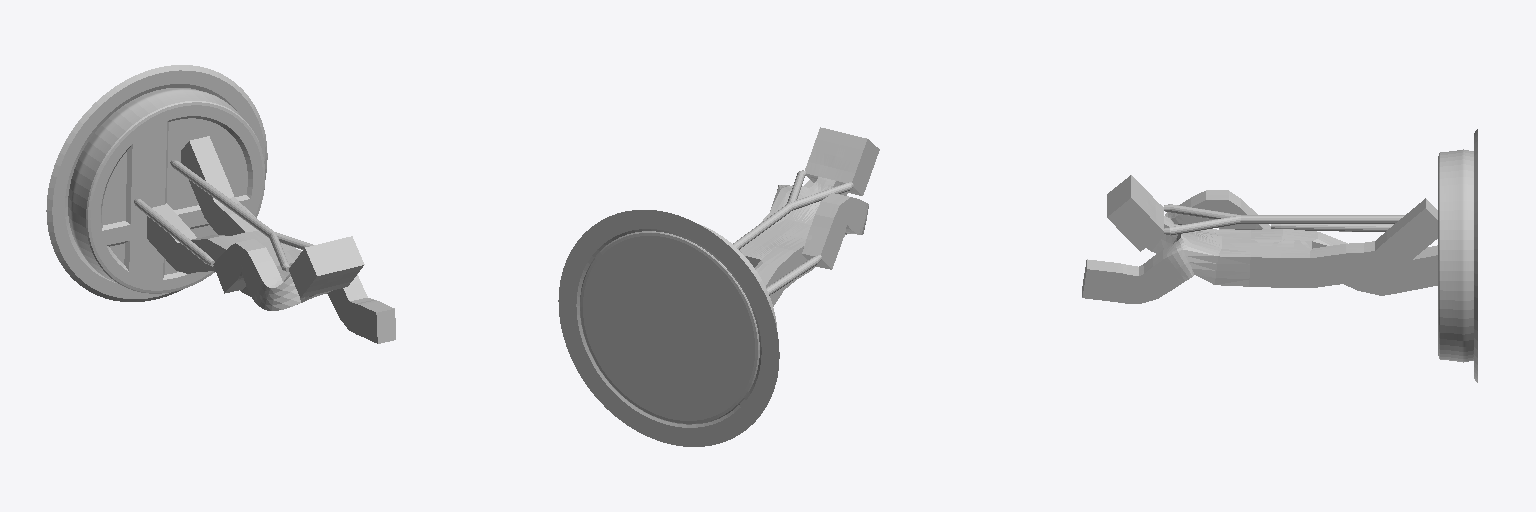
The model's file is Test 3 Amiibo v3.obj.
3 renders of one model, left to right at view 1: azimuth 30°, elevation 25°; view 2: azimuth 150°, elevation 25°; view 3: azimuth 270°, elevation 25°, orthographic.
Parts seen in each view (by area): view 1: Base_Mesh.012, Cube_Applied_Cube.002, Plane, Cube_Applied.001_Cube.004; view 2: Base_Mesh.012, Plane, Cube_Applied_Cube.002, Cube_Applied.001_Cube.004; view 3: Cube_Applied_Cube.002, Base_Mesh.012, Cube_Applied.001_Cube.004, Plane.
Boxes of the visible parts, box(x1,y1,x2,y2) form: Base_Mesh.012: box(68, 88, 265, 293); Cube_Applied_Cube.002: box(147, 136, 395, 343); Plane: box(46, 65, 267, 301); Cube_Applied.001_Cube.004: box(134, 160, 313, 271); Base_Mesh.012: box(580, 224, 776, 424); Plane: box(558, 210, 779, 446); Cube_Applied_Cube.002: box(740, 127, 879, 306); Cube_Applied.001_Cube.004: box(733, 170, 853, 295); Cube_Applied_Cube.002: box(1082, 175, 1437, 303); Base_Mesh.012: box(1438, 149, 1473, 362); Cube_Applied.001_Cube.004: box(1164, 204, 1404, 235); Plane: box(1474, 129, 1477, 382).
Size of the model in its own units: 54.73 by 54.73 by 84.8.